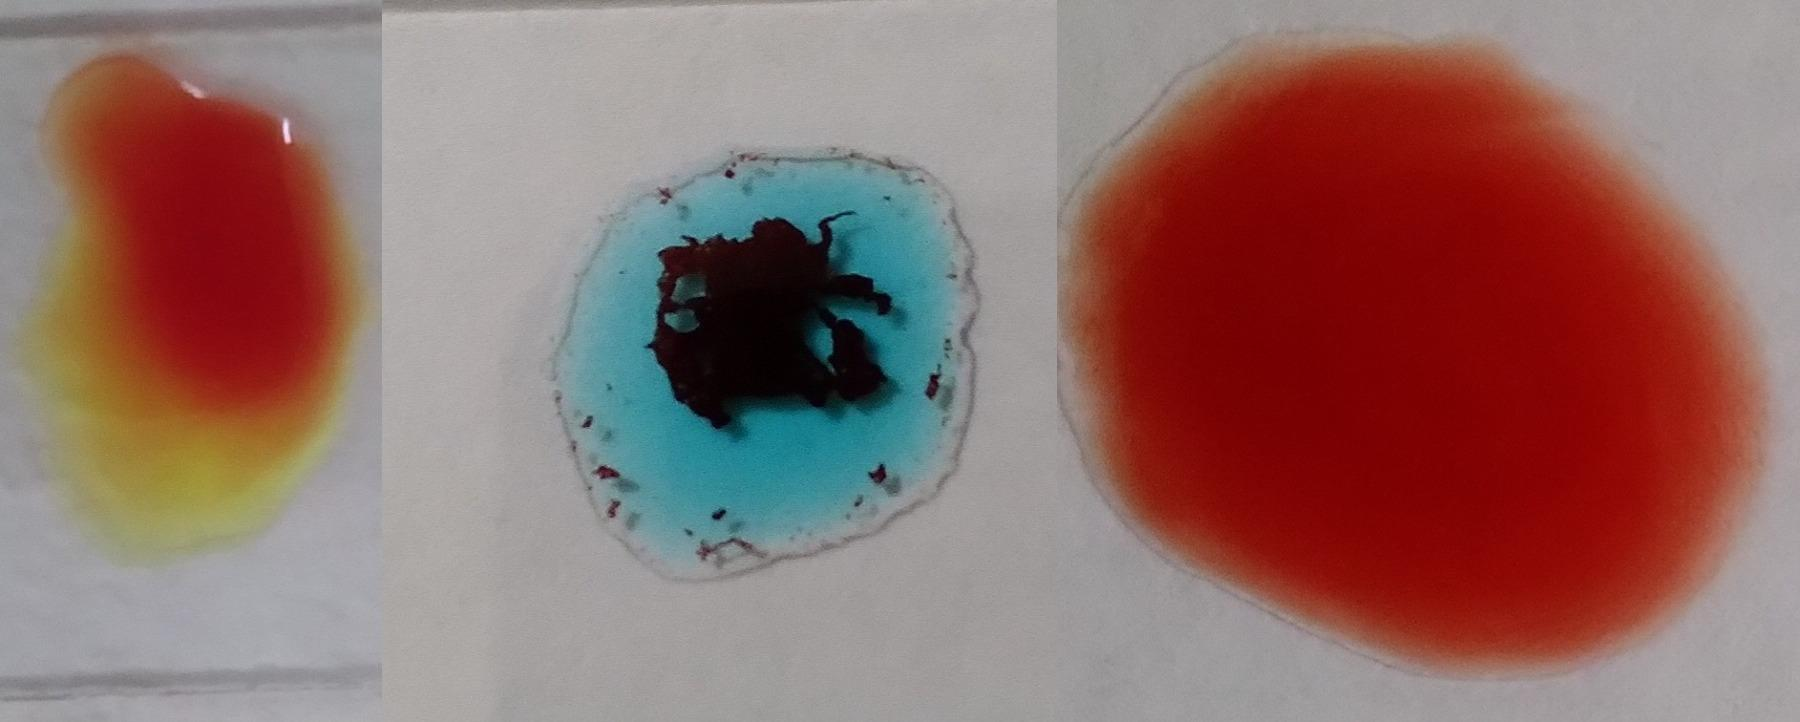A: (562, 158, 971, 566)
